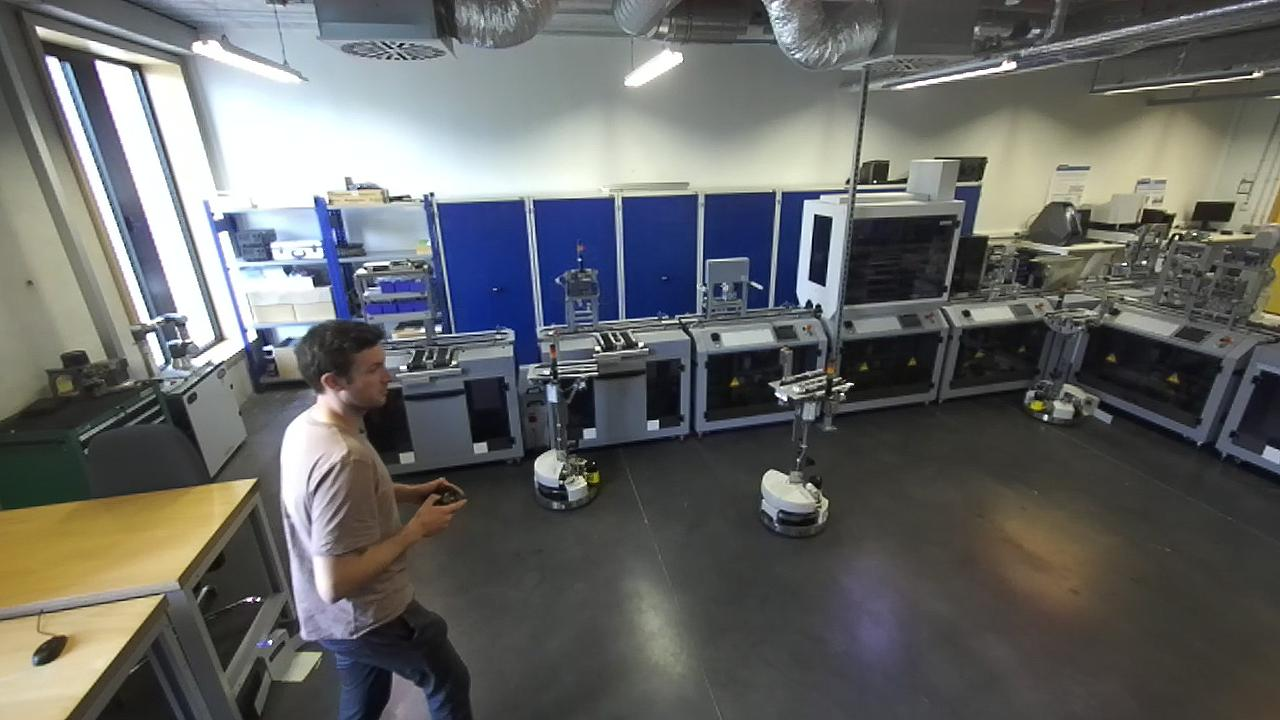AMR: (758, 338, 853, 543), (522, 329, 607, 510), (1027, 275, 1115, 426)
Human: (270, 321, 490, 720)
